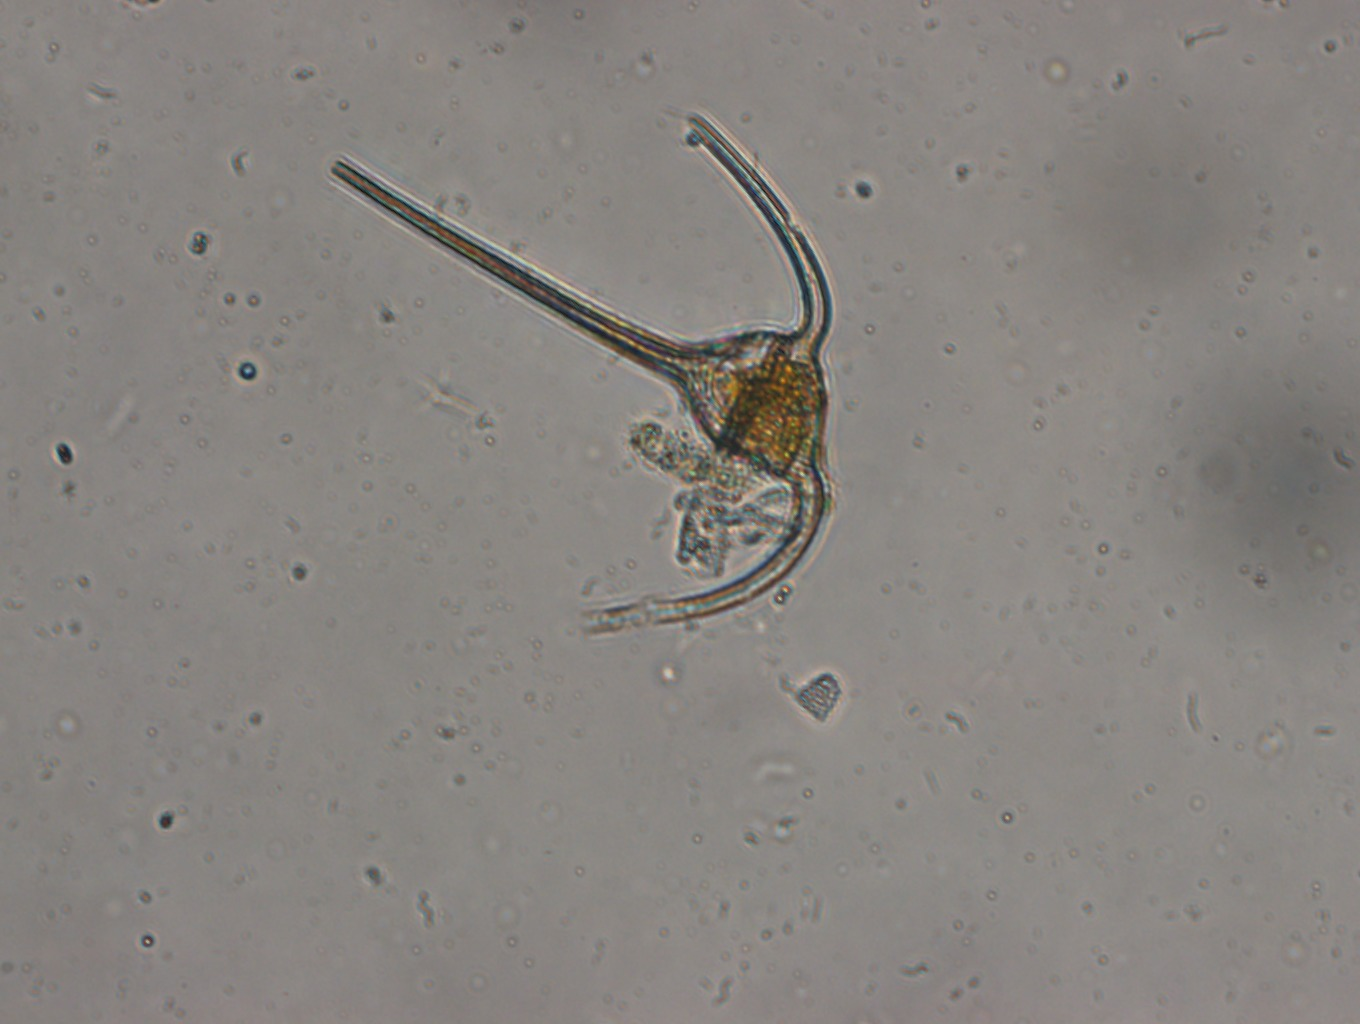ceratium trichoceros: (320, 98, 847, 650)
